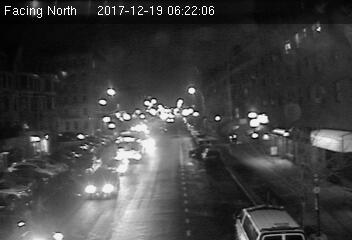car: (84, 168, 122, 201)
police: (233, 203, 307, 240)
